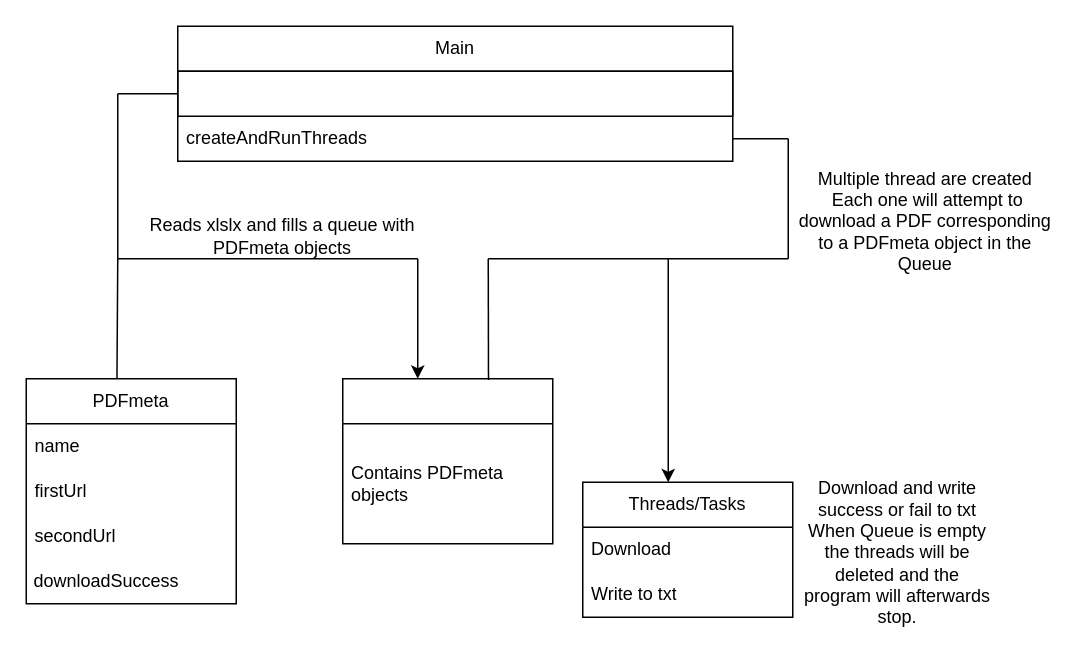
Image size: 1085x654. Some labels were removed from this diagram. The shapes that lost their labels are listed below. From the top down, each one's box as (x1, y1, x2, y2) in pixels, then its label:
(176, 70, 733, 116): readxlxsAndCreatequeue()
(341, 377, 553, 544): Queue
